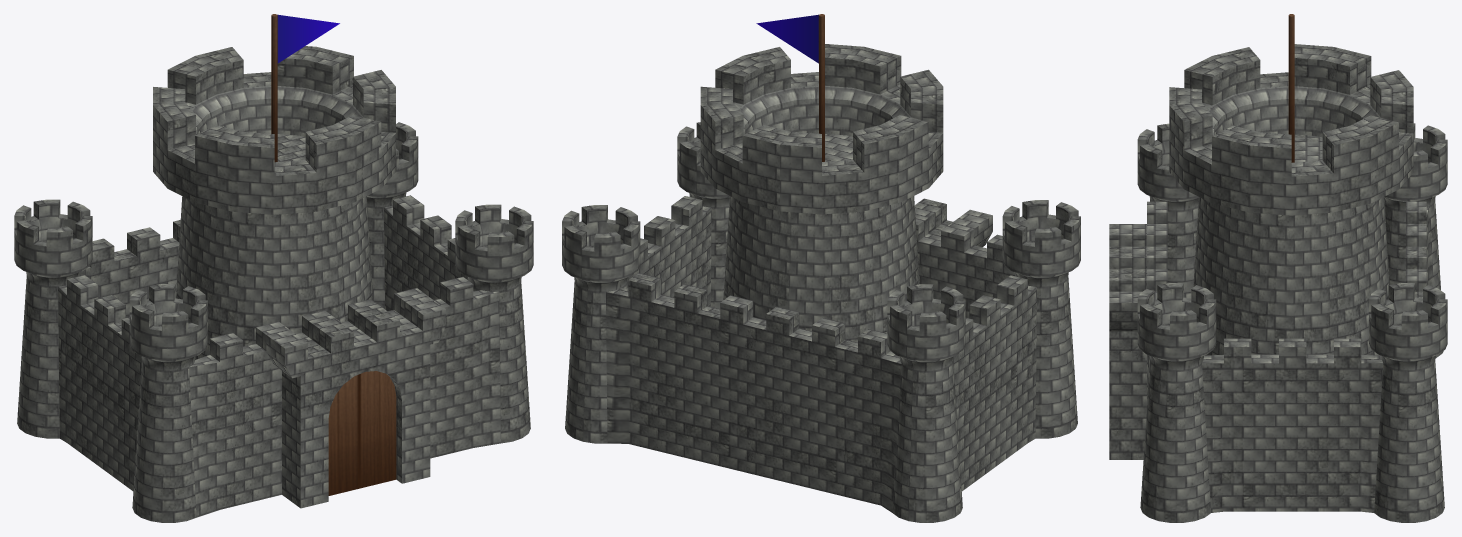
Rendered from Castle_blue.fbx.
The picture shows the model from 3 angles, left to right: view 1: azimuth 30°, elevation 25°; view 2: azimuth 150°, elevation 25°; view 3: azimuth 270°, elevation 25°; orthographic projection.
Visible parts, largest first — view 1: Pillar_Big, Wall_1, Gate, Pillar_1, Wall_3, Pillar_2, Pillar_3, Gate_Door, Wall_4, Wall_2, Pillar_4, Flag (+1 smaller); view 2: Pillar_Big, Wall_2, Pillar_2, Wall_3, Pillar_4, Pillar_1, Wall_4, Wall_1, Pillar_3, Gate, Flag, Flag_Stick; view 3: Pillar_Big, Wall_4, Pillar_3, Pillar_4, Gate, Pillar_1, Pillar_2, Wall_2, Wall_1, Flag_Stick.
Boxes of the visible parts, <box> form: Pillar_Big: <box>153,46,395,359</box>; Wall_1: <box>189,277,500,517</box>; Gate: <box>266,295,445,508</box>; Pillar_1: <box>129,284,207,522</box>; Wall_3: <box>58,275,141,491</box>; Pillar_2: <box>14,199,92,438</box>; Pillar_3: <box>455,204,533,443</box>; Gate_Door: <box>328,371,396,495</box>; Wall_4: <box>384,195,467,311</box>; Wall_2: <box>80,220,180,317</box>; Pillar_4: <box>367,122,418,308</box>; Flag: <box>277,14,339,63</box>; Pillar_Big: <box>700,44,943,342</box>; Wall_2: <box>606,273,901,512</box>; Pillar_2: <box>887,284,965,522</box>; Wall_3: <box>953,275,1036,491</box>; Pillar_4: <box>562,205,640,443</box>; Pillar_1: <box>1002,200,1080,438</box>; Wall_4: <box>628,196,711,306</box>; Wall_1: <box>915,214,1014,318</box>; Pillar_3: <box>677,122,729,308</box>; Gate: <box>914,198,992,247</box>; Flag: <box>756,14,818,63</box>; Flag_Stick: <box>819,14,824,161</box>; Pillar_Big: <box>1169,44,1413,355</box>; Wall_4: <box>1202,338,1383,512</box>; Pillar_3: <box>1137,283,1216,522</box>; Pillar_4: <box>1369,283,1447,522</box>; Gate: <box>1109,224,1146,459</box>; Pillar_1: <box>1137,123,1198,298</box>; Pillar_2: <box>1384,123,1447,357</box>; Wall_2: <box>1406,201,1436,358</box>; Wall_1: <box>1147,201,1167,403</box>; Flag_Stick: <box>1288,14,1294,162</box>.
Size of the model in its own units: 15 by 15 by 11.15.
1 material, 1 textured.
